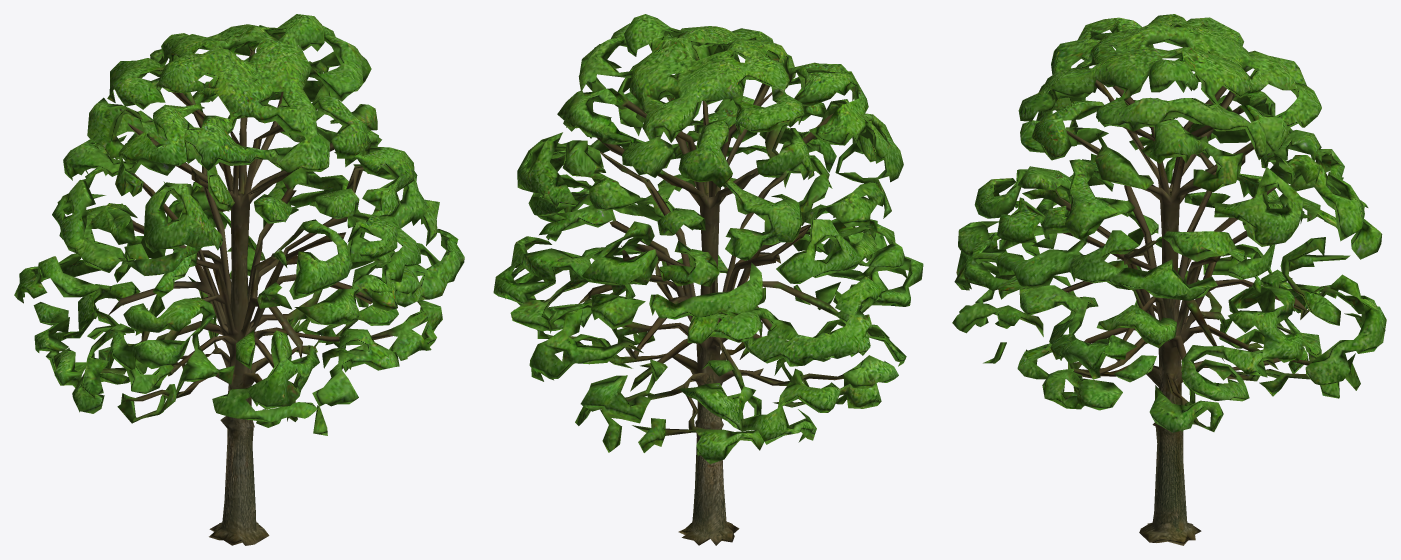
File: tree.glb
3 views of the same model, side by side, from view 1: azimuth 30°, elevation 25°; view 2: azimuth 150°, elevation 25°; view 3: azimuth 270°, elevation 25° (orthographic).
Visible parts, largest first — view 1: tripo_node_30e7bc20-bec3-460a-9a6c-10c62ae4346d; view 2: tripo_node_30e7bc20-bec3-460a-9a6c-10c62ae4346d; view 3: tripo_node_30e7bc20-bec3-460a-9a6c-10c62ae4346d.
Part boxes in pixels (bbox=[...]): tripo_node_30e7bc20-bec3-460a-9a6c-10c62ae4346d: bbox=[14, 14, 464, 545]; tripo_node_30e7bc20-bec3-460a-9a6c-10c62ae4346d: bbox=[493, 14, 923, 545]; tripo_node_30e7bc20-bec3-460a-9a6c-10c62ae4346d: bbox=[952, 14, 1386, 545].
Size of the model in its own units: 0.7819 by 1 by 0.7783.
Materials: 1 (1 with a texture image).
